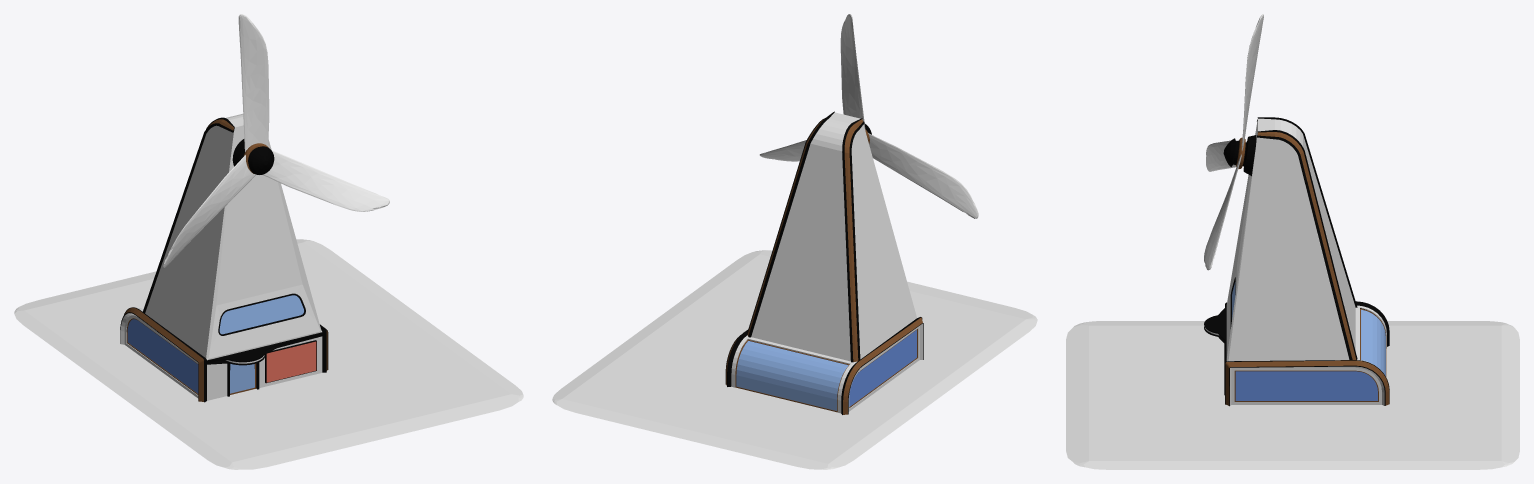
Rendered from GasStationDiner_01.fbx.
3 views of the same model, side by side, from view 1: azimuth 30°, elevation 25°; view 2: azimuth 150°, elevation 25°; view 3: azimuth 270°, elevation 25° (orthographic). The views are drawn at different scales.
Parts seen in each view (by area): view 1: DinerGround, TankstellenDinerWindwheel, RotorBladeSocket, TankstellenDiner_LOD0, Poster, Vordach, TankstellenDinerDoor; view 2: DinerGround, TankstellenDinerWindwheel, TankstellenDiner_LOD0, RotorBladeSocket; view 3: DinerGround, TankstellenDinerWindwheel, TankstellenDiner_LOD0, RotorBladeSocket, Vordach.
Boxes of the visible parts, <box> form: DinerGround: <box>14,239,523,469</box>; TankstellenDinerWindwheel: <box>143,113,321,358</box>; RotorBladeSocket: <box>163,14,389,268</box>; TankstellenDiner_LOD0: <box>120,307,328,402</box>; Poster: <box>265,340,316,383</box>; Vordach: <box>207,332,322,365</box>; TankstellenDinerDoor: <box>230,363,256,394</box>; DinerGround: <box>552,250,1037,469</box>; TankstellenDinerWindwheel: <box>747,111,916,362</box>; TankstellenDiner_LOD0: <box>725,317,923,414</box>; RotorBladeSocket: <box>759,14,978,218</box>; DinerGround: <box>1066,321,1519,469</box>; TankstellenDinerWindwheel: <box>1223,117,1357,361</box>; TankstellenDiner_LOD0: <box>1225,301,1389,406</box>; RotorBladeSocket: <box>1204,14,1263,270</box>; Vordach: <box>1204,306,1226,360</box>.
Size of what is drawn, in the model's own units: 1540 by 1735 by 1980.
